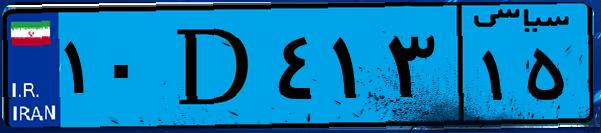0: (110, 28, 158, 98)
1: (330, 28, 385, 110), (57, 26, 110, 100), (475, 38, 525, 113)
3: (385, 28, 445, 110)
4: (270, 28, 330, 110)
5: (525, 38, 570, 115)
D: (158, 12, 270, 120)
